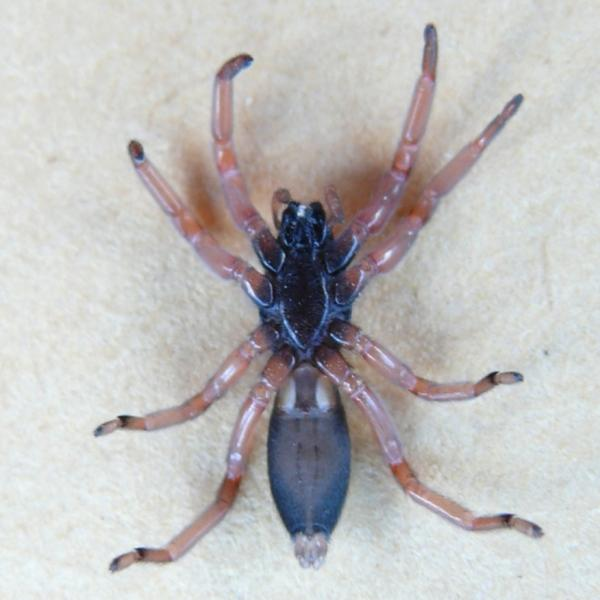White-Tailed Spider: (111, 28, 546, 568)
